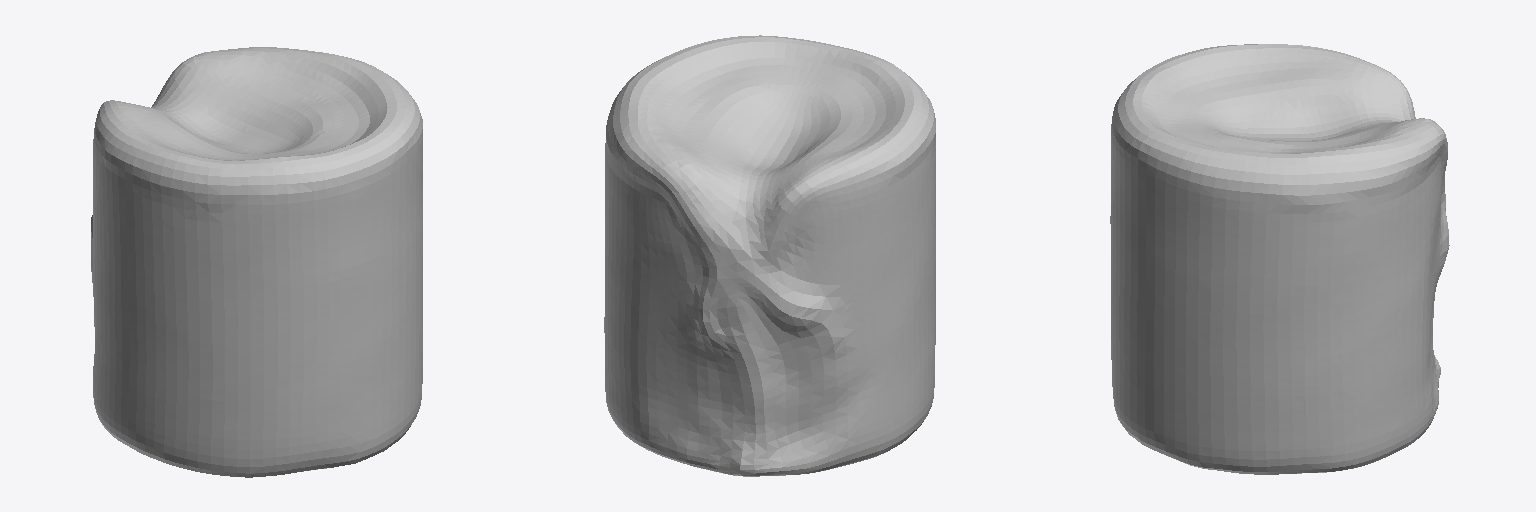
The model's file is smallCandle.obj.
3 renders of one model, left to right at view 1: azimuth 30°, elevation 25°; view 2: azimuth 150°, elevation 25°; view 3: azimuth 270°, elevation 25°, orthographic.
Parts seen in each view (by area): view 1: ZBrush_defualt_group; view 2: ZBrush_defualt_group; view 3: ZBrush_defualt_group.
Part boxes in pixels (x1,y1,x2,y2): ZBrush_defualt_group: (91, 47, 422, 477); ZBrush_defualt_group: (604, 35, 935, 476); ZBrush_defualt_group: (1110, 44, 1449, 474).
Bounding box in the file's own units: 1.99 × 2.08 × 2.04.